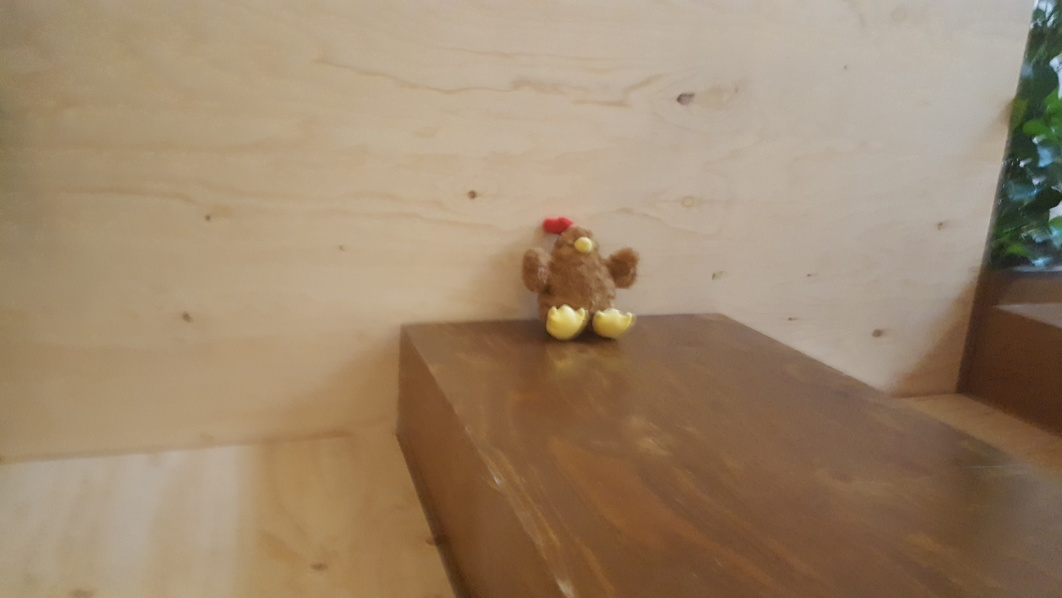chicken: (521, 209, 641, 338)
